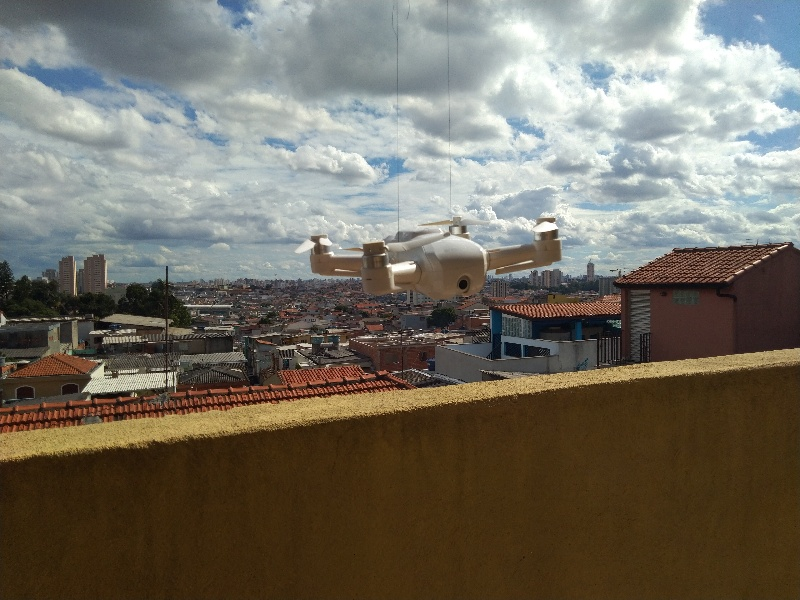drone: (303, 208, 577, 301)
